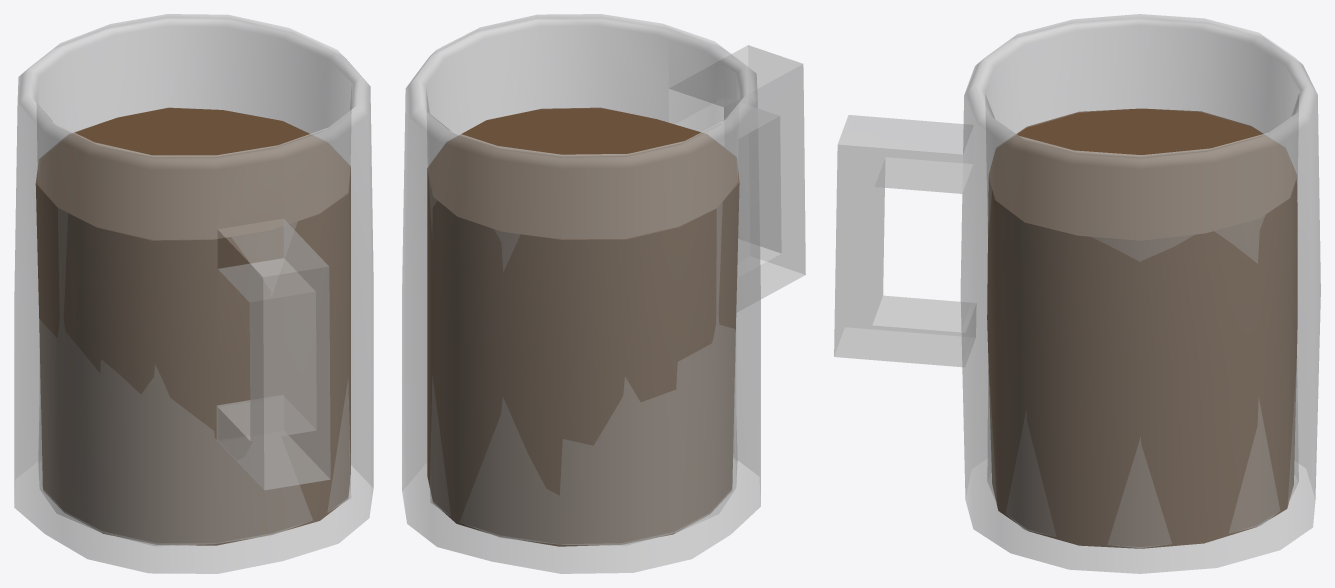
The model's file is kopp_mv.fbx.
3 views of the same model, side by side, from view 1: azimuth 30°, elevation 25°; view 2: azimuth 150°, elevation 25°; view 3: azimuth 270°, elevation 25° (orthographic).
Visible parts, largest first — view 1: pCube14, pPlane2; view 2: pCube14, pPlane2; view 3: pCube14, pPlane2.
Boxes of the visible parts, x1,y1,x2,y2 form: pCube14: [14, 14, 373, 573]; pPlane2: [35, 107, 350, 545]; pCube14: [402, 14, 805, 573]; pPlane2: [427, 107, 739, 546]; pCube14: [834, 14, 1320, 573]; pPlane2: [987, 108, 1297, 548].
Bounding box in the file's own units: 0.6373 × 0.8144 × 0.8671.
